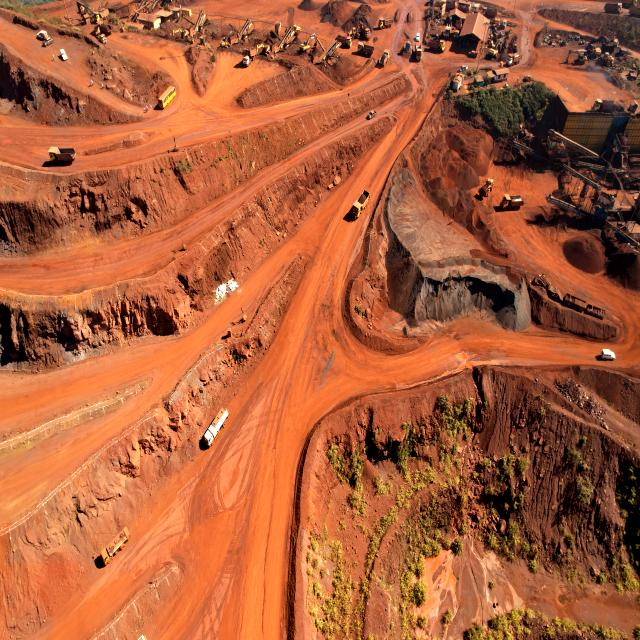Dumper truck: (101, 528, 129, 567), (47, 144, 75, 167), (355, 190, 369, 213), (502, 194, 522, 208), (593, 99, 613, 112), (606, 0, 624, 14), (428, 38, 445, 52), (92, 28, 106, 43), (483, 4, 498, 16), (358, 42, 372, 54), (338, 36, 352, 48), (379, 18, 392, 30), (96, 23, 110, 34), (272, 20, 282, 34), (381, 49, 390, 63), (454, 22, 461, 40), (94, 10, 106, 20), (415, 44, 422, 60), (444, 24, 452, 38), (363, 28, 372, 40), (630, 0, 640, 10)
Excavator: (220, 28, 241, 48), (254, 40, 274, 59), (301, 34, 318, 52), (566, 48, 586, 62), (172, 27, 189, 41), (605, 36, 618, 49), (587, 45, 601, 57), (593, 35, 606, 42)
car: (599, 348, 616, 361), (37, 30, 48, 40), (59, 48, 68, 60), (43, 37, 51, 48), (367, 110, 374, 120), (415, 32, 420, 40)
person: (101, 83, 104, 89), (90, 80, 92, 87), (144, 106, 146, 113), (146, 104, 148, 111), (53, 54, 55, 61), (517, 76, 519, 82), (92, 80, 94, 86)
